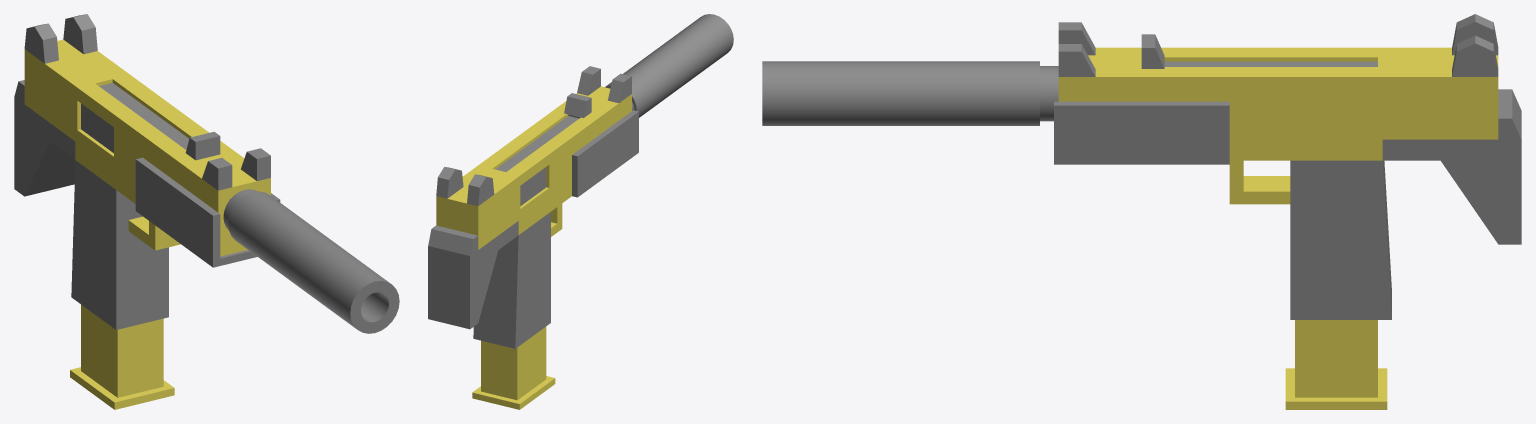
Rendered from uzigoldlongsilencer.glb.
The picture shows the model from 3 angles, left to right: view 1: azimuth 30°, elevation 25°; view 2: azimuth 150°, elevation 25°; view 3: azimuth 270°, elevation 25°; orthographic projection. The views are drawn at different scales.
Visible parts, largest first — view 1: uziGoldLongSilencer; view 2: uziGoldLongSilencer; view 3: uziGoldLongSilencer.
Part boxes in pixels (x1,y1,x2,y2): uziGoldLongSilencer: (14, 14, 399, 409); uziGoldLongSilencer: (428, 14, 733, 409); uziGoldLongSilencer: (762, 14, 1521, 409).
Size of the model in its own units: 0.285 by 1.31 by 2.46.
